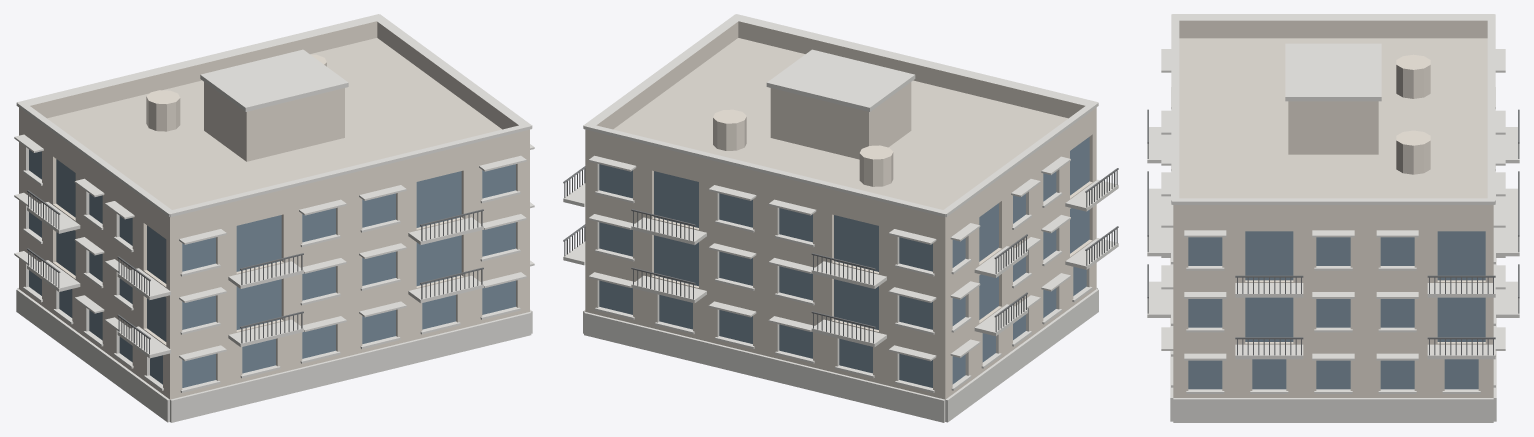
Rendered from Block_near_ATM_2.fbx.
The picture shows the model from 3 angles, left to right: view 1: azimuth 30°, elevation 25°; view 2: azimuth 150°, elevation 25°; view 3: azimuth 270°, elevation 25°; orthographic projection. The views are drawn at different scales.
Parts seen in each view (by area): view 1: Block_near_ATM_2; view 2: Block_near_ATM_2; view 3: Block_near_ATM_2.
Boxes of the visible parts, box(x1,y1,x2,y2) form: Block_near_ATM_2: box(14, 14, 534, 422); Block_near_ATM_2: box(563, 14, 1118, 422); Block_near_ATM_2: box(1147, 14, 1519, 422).
Bounding box in the file's own units: 24.6 × 14.25 × 18.6.
